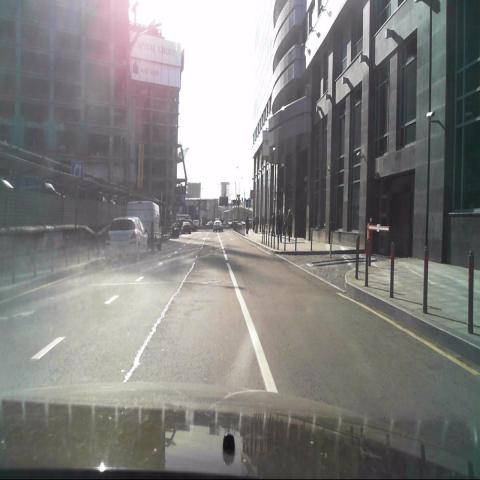5_15_5: (71, 160, 83, 184)
